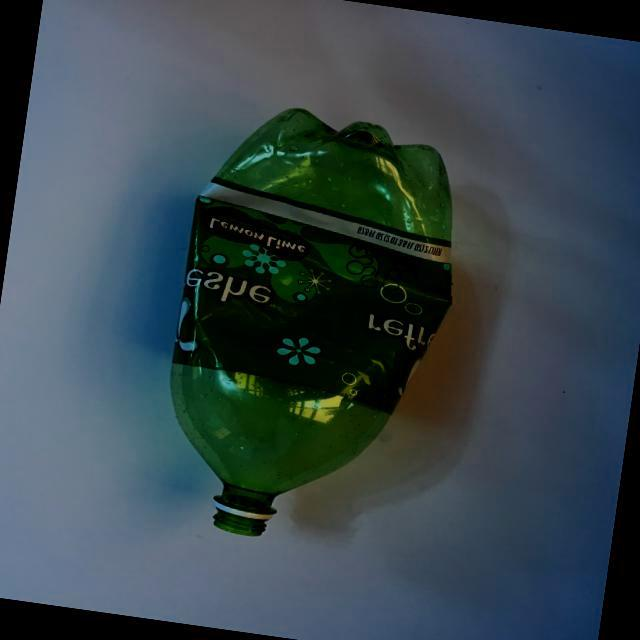plastic: (54, 16, 507, 596)
